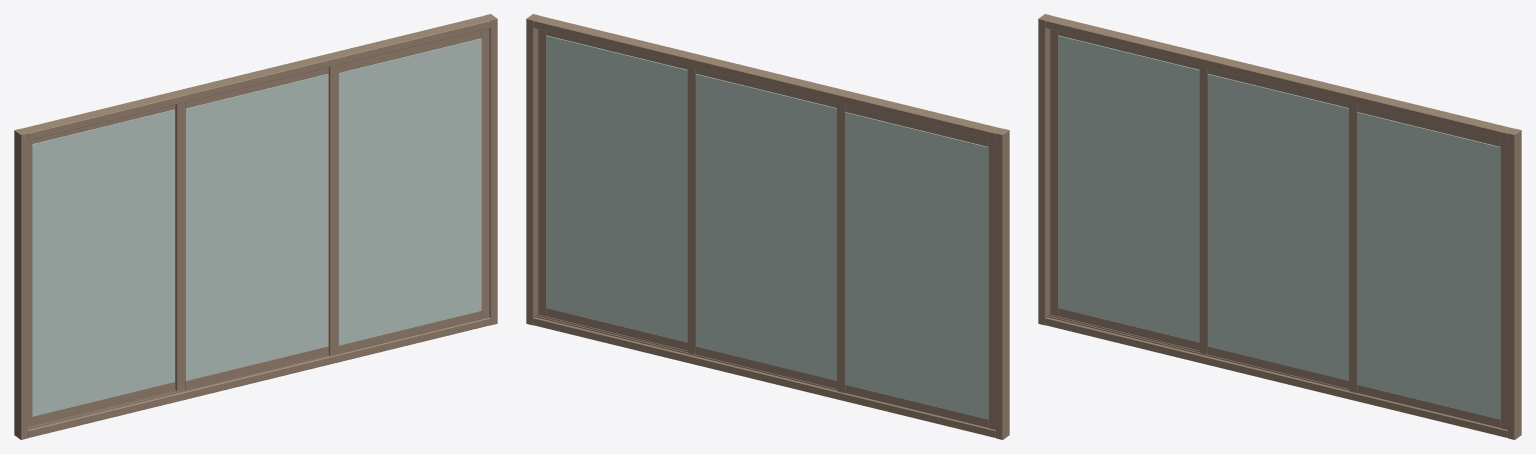
The model's file is co-S90RP-3-quartz-1019.glb.
3 views of the same model, side by side, from view 1: azimuth 30°, elevation 25°; view 2: azimuth 150°, elevation 25°; view 3: azimuth 330°, elevation 25° (orthographic).
Visible parts, largest first — view 1: verre, structure; view 2: verre, structure; view 3: verre, structure.
Boxes of the visible parts, x1,y1,x2,y2 form: verre: [32, 38, 481, 416]; structure: [14, 14, 497, 439]; verre: [546, 35, 988, 419]; structure: [526, 14, 1009, 439]; verre: [1058, 35, 1500, 419]; structure: [1038, 14, 1521, 439].
Size of the model in its own units: 3.6 by 2.2 by 0.09.
